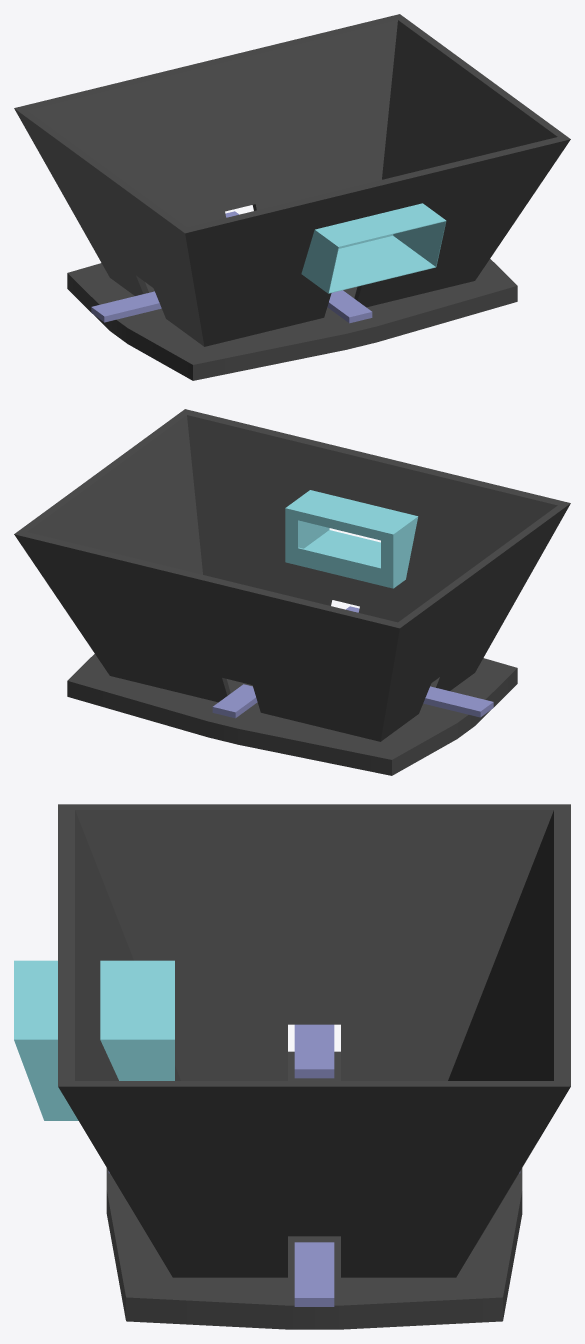
File: tset3.FBX
3 views of the same model, one above another, from view 1: azimuth 30°, elevation 25°; view 2: azimuth 150°, elevation 25°; view 3: azimuth 270°, elevation 25° (orthographic). The views are drawn at different scales.
Parts seen in each view (by area): view 1: Box001, Box002 (×2); view 2: Box001, Box002 (×2); view 3: Box001, Box002 (×2).
Boxes of the visible parts, left/top/right/bottom form: Box001: left=14, top=14, right=570, bottom=380; Box002 (×2): left=91, top=203, right=446, bottom=323; Box001: left=14, top=409, right=570, bottom=775; Box002 (×2): left=212, top=490, right=493, bottom=718; Box001: left=58, top=804, right=570, bottom=1329; Box002 (×2): left=14, top=960, right=520, bottom=1306.
Bounding box in the file's own units: 2002 × 844 × 1657.
